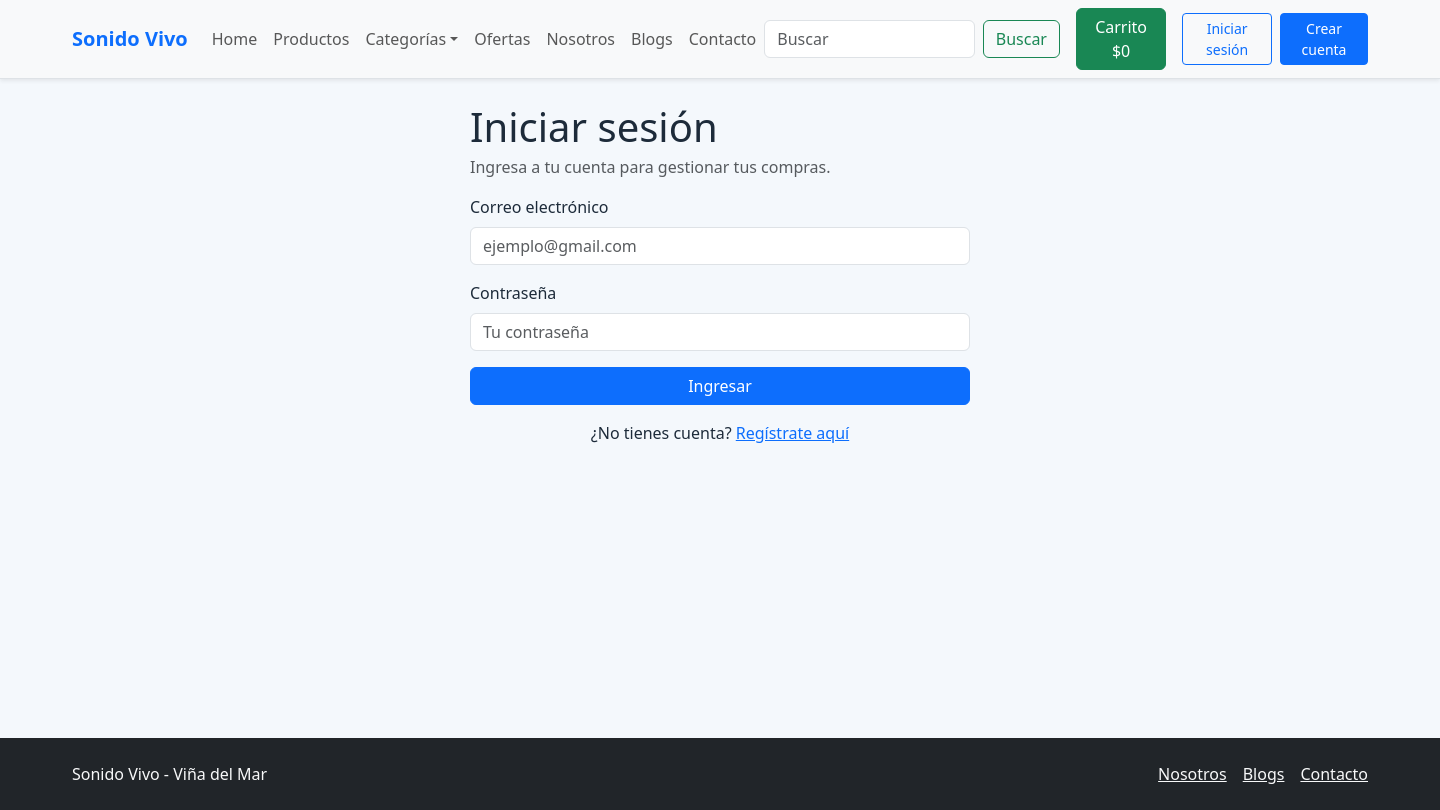
Login › un administrador entra y es llevado al panel /admin
Step 1. Type "max@duoc.cl" into the field labelled "Correo electrónico" → [720, 246], box [470, 227, 970, 265]
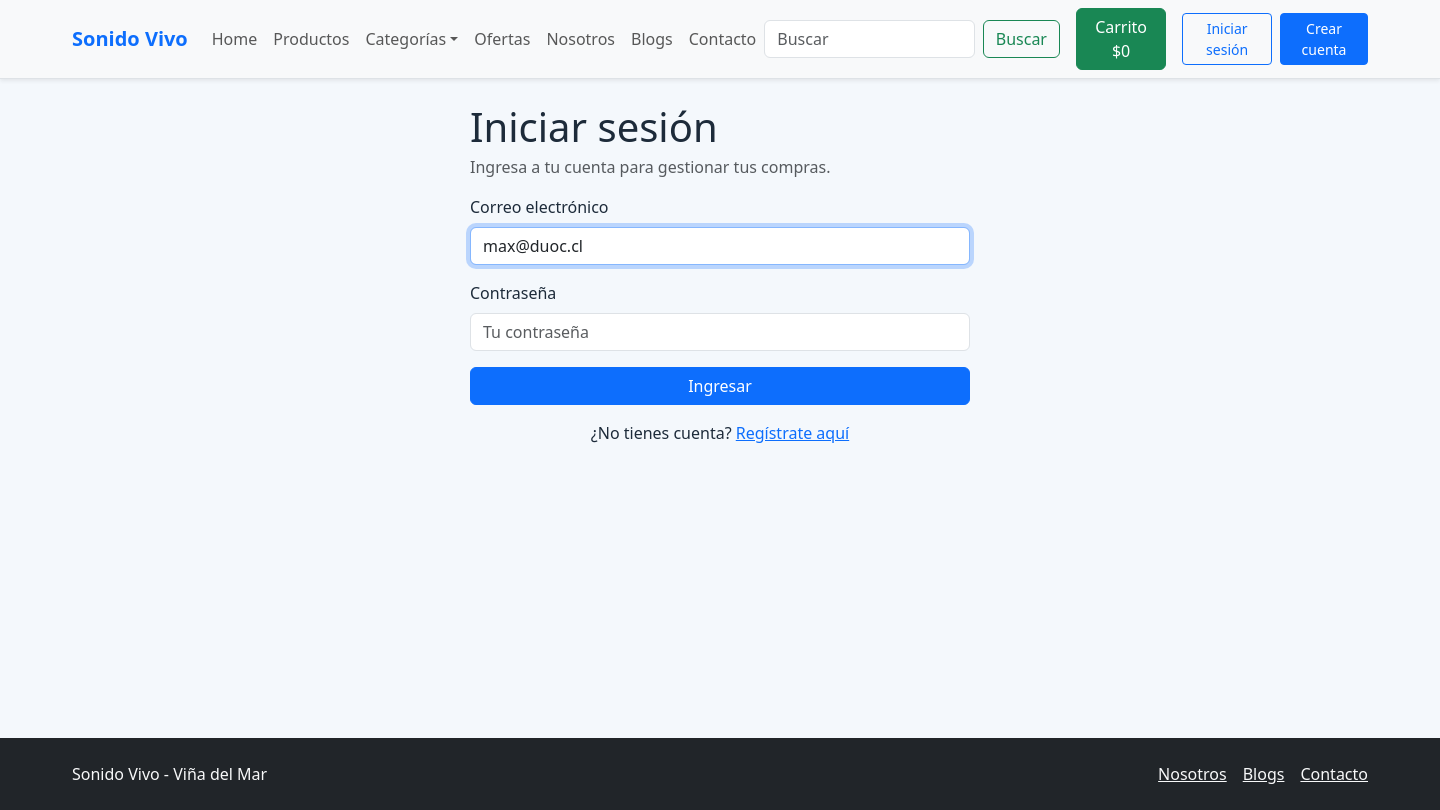
Step 2. Type "admin123" into the password field labelled "Contraseña" → [720, 332], box [470, 313, 970, 351]
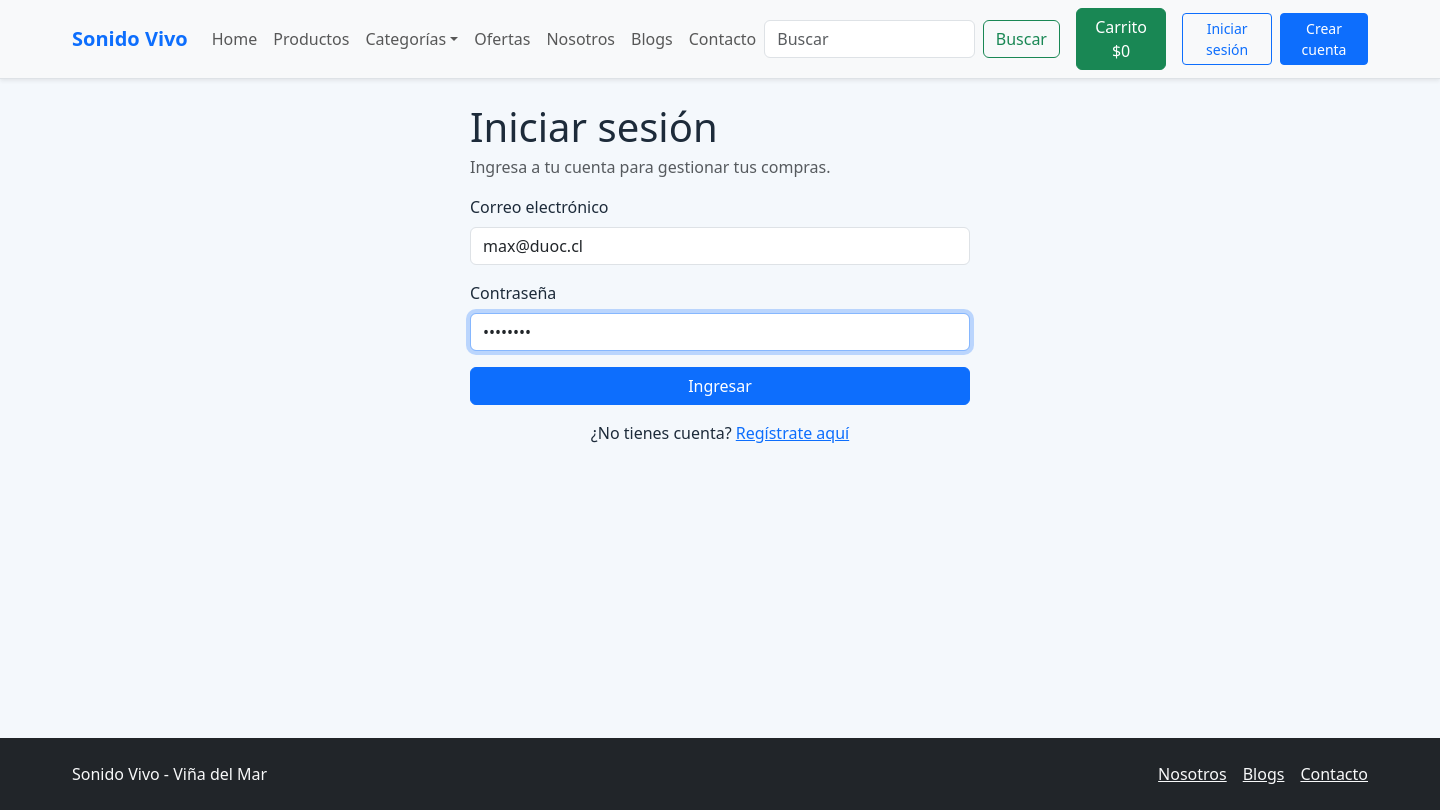
Step 3. Click the button "Ingresar" → [720, 386], box [470, 367, 970, 405]
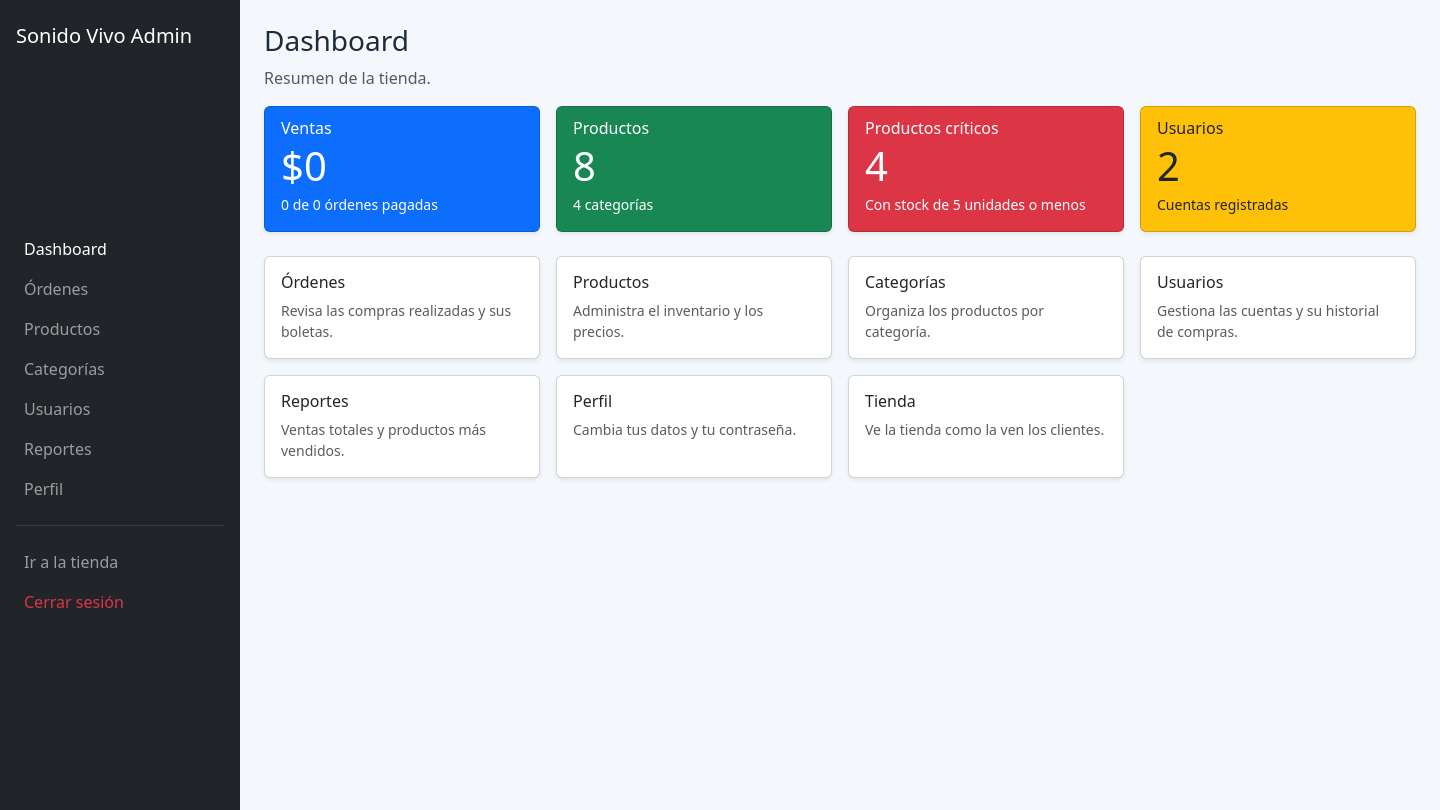
Check: the heading "Dashboard" is shown, box [264, 21, 409, 59]
